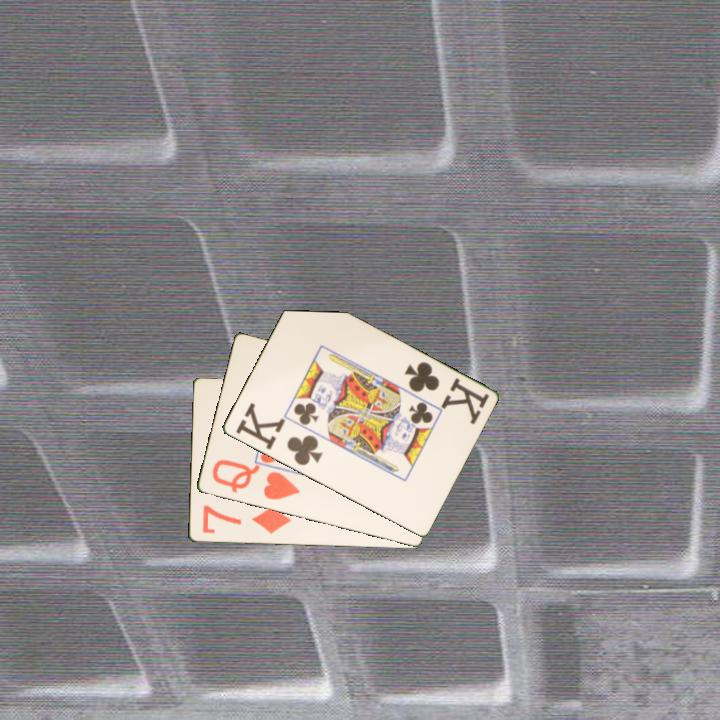7d: (198, 502, 294, 537)
Kc: (232, 400, 325, 469), (400, 358, 492, 426)
Qh: (208, 456, 302, 503)
